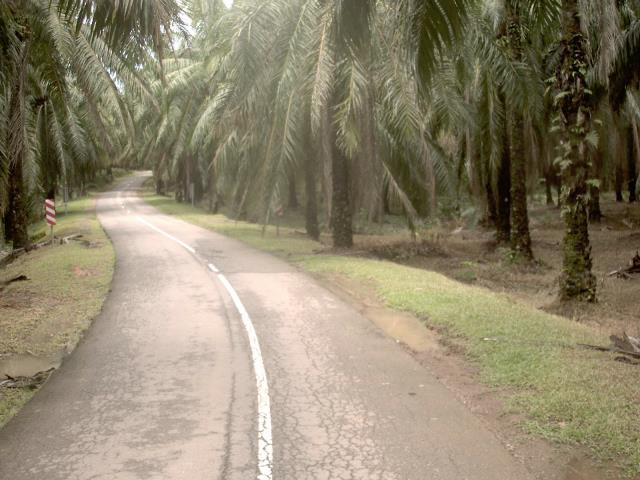traffic_sign: (38, 191, 63, 234)
